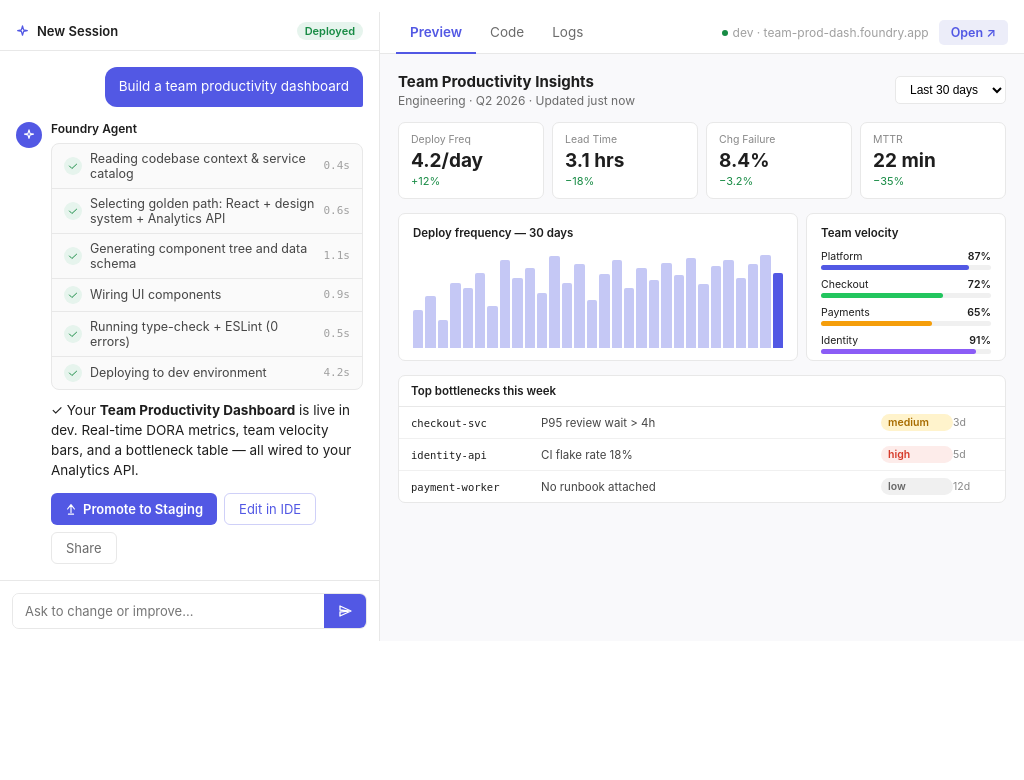
Scenario: BuildScreen › copies a share link and confirms on the Share button
Click the button "Share". click: (84, 548)
box: x1=51 y1=532 x2=117 y2=564
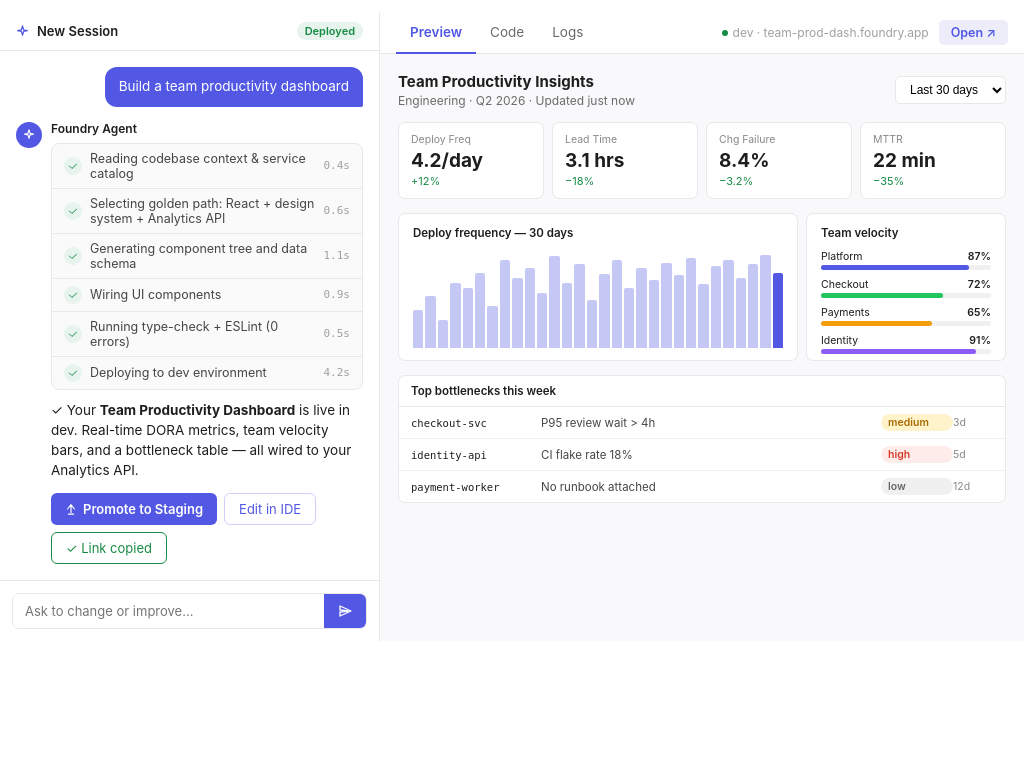
Now the button "✓ Link copied" is shown, box x1=51 y1=532 x2=167 y2=564
